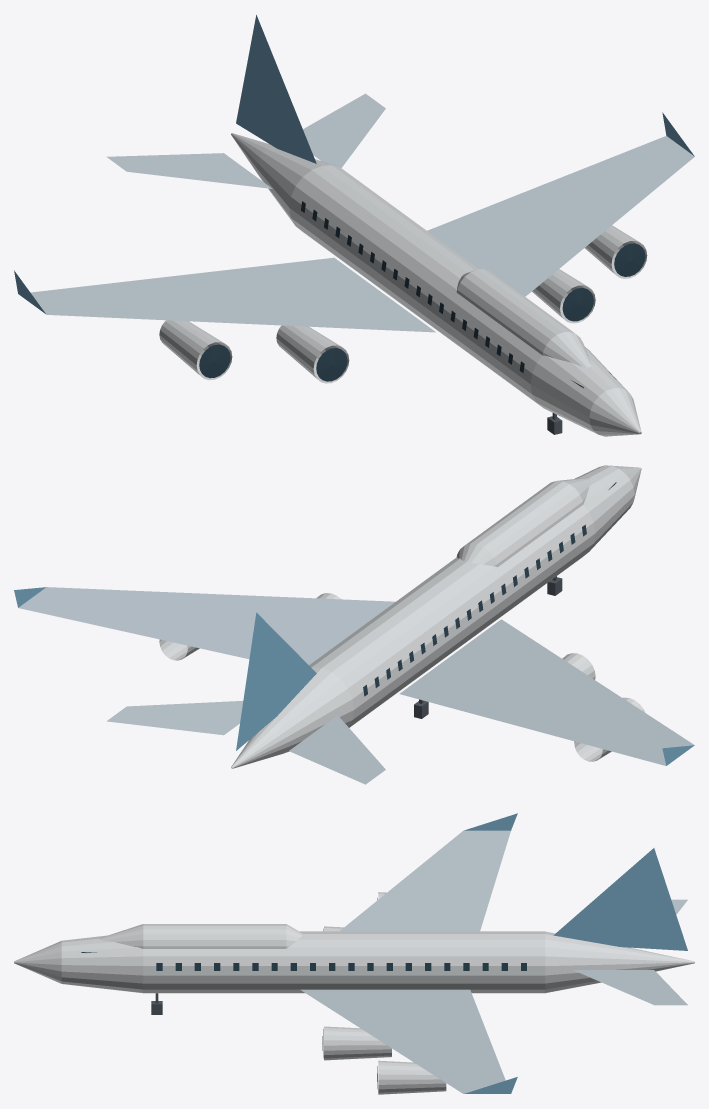
The model's file is b747-AAL.gltf.
3 views of the same model, one above another, from view 1: azimuth 30°, elevation 25°; view 2: azimuth 150°, elevation 25°; view 3: azimuth 270°, elevation 25° (orthographic). The views are drawn at different scales.
Parts seen in each view (by area): view 1: object 1; view 2: object 1, Gear; view 3: object 1.
Boxes of the visible parts, x1=… form: object 1: x1=14, y1=15, x2=694, y2=436; object 1: x1=14, y1=465, x2=694, y2=784; Gear: x1=414, y1=576, x2=562, y2=718; object 1: x1=14, y1=813, x2=694, y2=1094.
Size of the model in its own units: 65 by 19.04 by 71.
